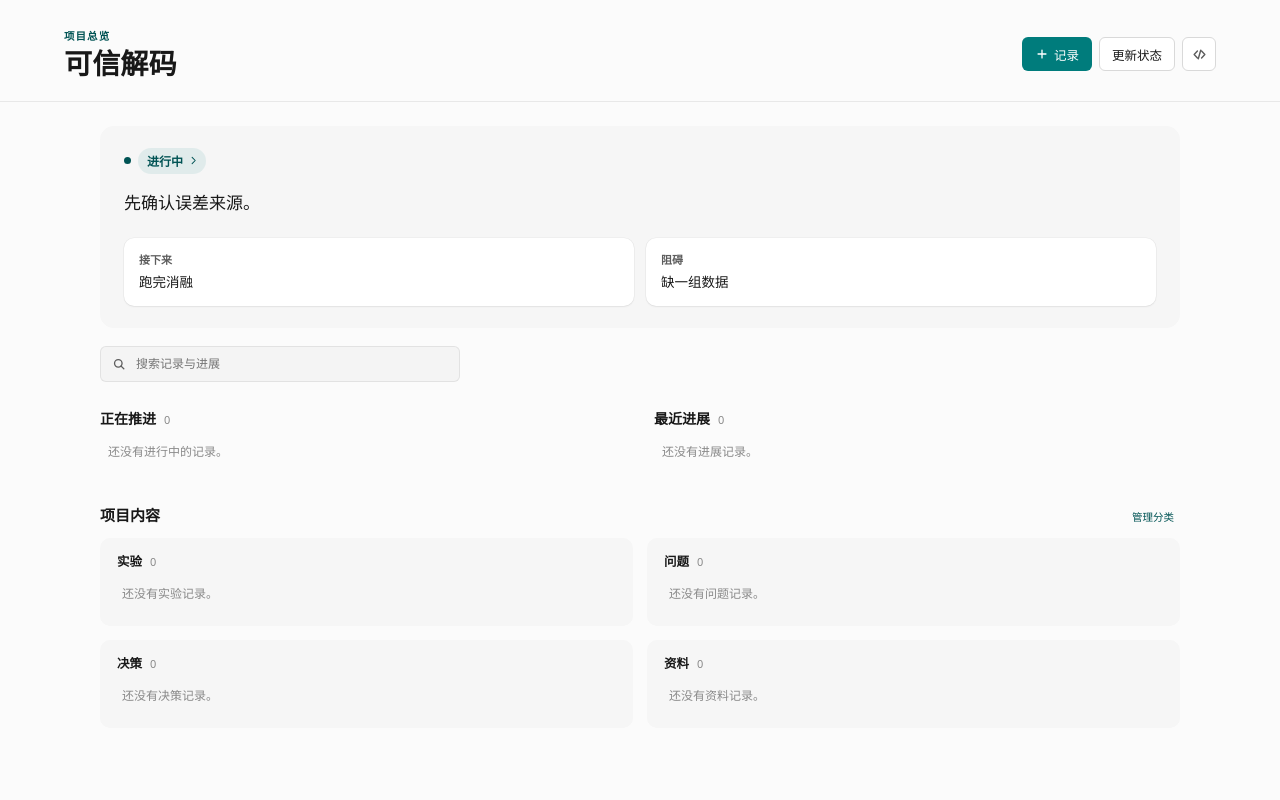
it: 单项目总览 › 记录入口默认就是进展，只要求填写内容
Click the button "记录".
click(1057, 54)  # box [1022, 37, 1092, 71]
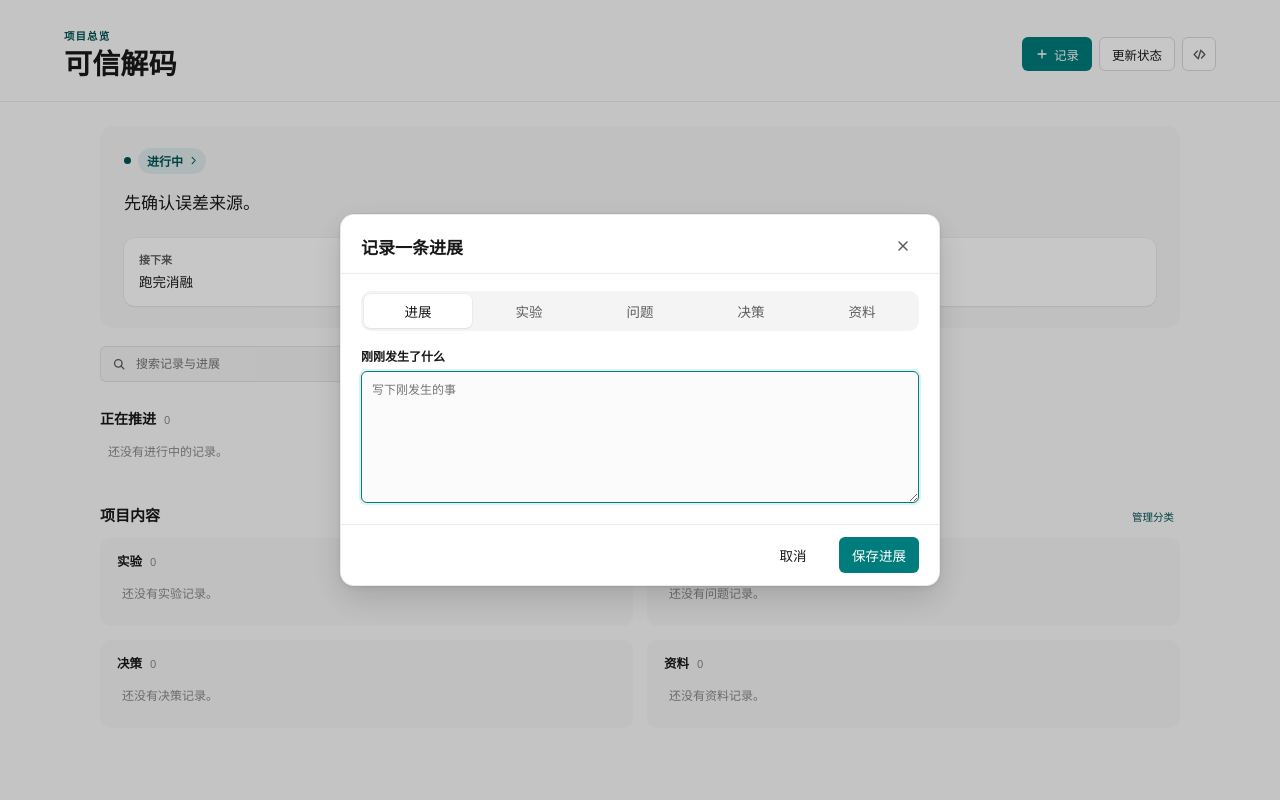
Check: the heading "记录一条进展" is shown, box [361, 236, 463, 259]
Check: the text box labelled "刚刚发生了什么" is shown, box [361, 371, 919, 503]
